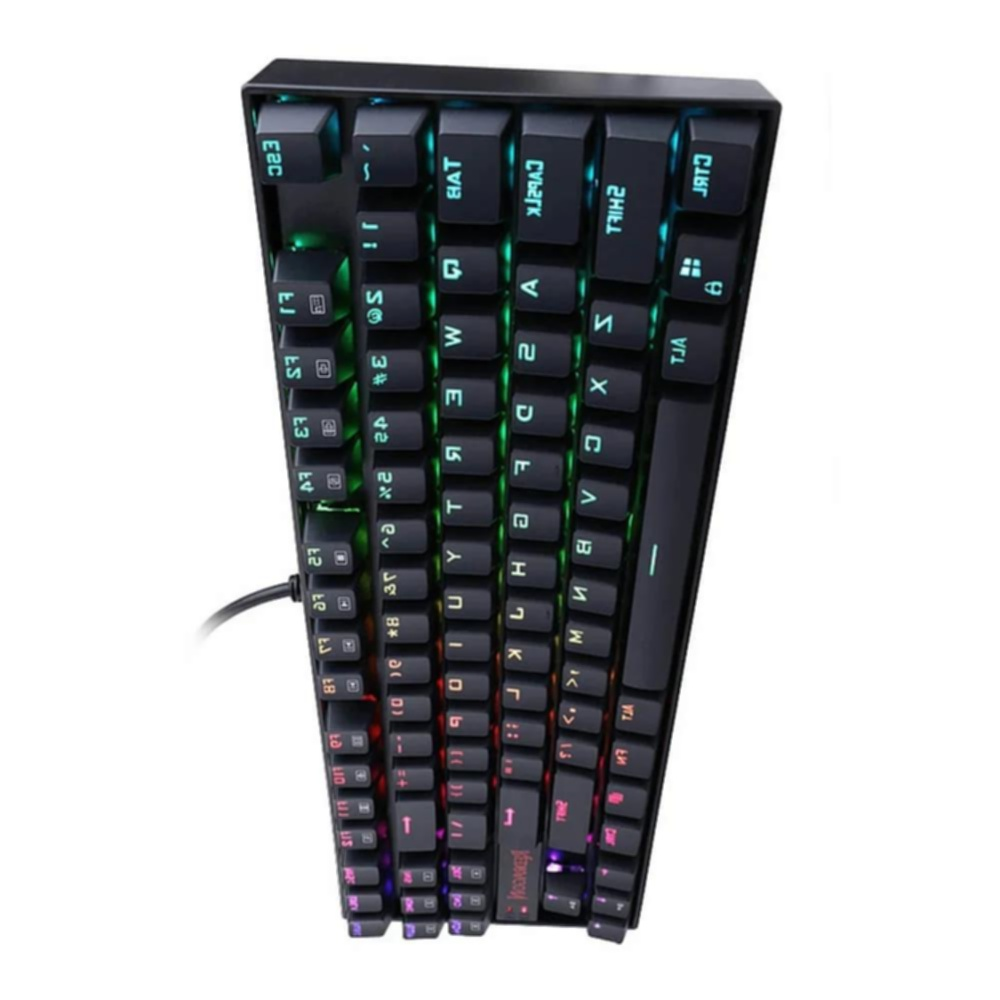-: (520, 278, 539, 298)
0: (391, 697, 405, 715)
0-1-2-3-4-5-6-7-8-9-A-B-C-D-E-F: (361, 141, 375, 183), (391, 736, 409, 754), (565, 669, 581, 689), (394, 769, 410, 789), (502, 758, 518, 776), (562, 706, 577, 725), (505, 722, 519, 739), (450, 821, 463, 839), (450, 750, 464, 766), (559, 742, 572, 759), (451, 783, 465, 798)
1: (361, 220, 380, 250)
2: (366, 288, 384, 321)
3: (371, 354, 389, 387)
4: (373, 415, 390, 444)
5: (377, 471, 393, 499)
6: (381, 522, 397, 546)
7: (383, 571, 398, 595)
8: (386, 617, 401, 638)
9: (389, 659, 403, 679)
A: (669, 336, 688, 366), (621, 704, 634, 721)
ALT: (576, 537, 594, 555)
B: (395, 803, 435, 851)
BACKSPACE: (584, 434, 602, 454)
C: (523, 157, 545, 220)
CAPSLK: (691, 151, 713, 200), (605, 828, 617, 846)
CTRL: (516, 403, 535, 423)
D: (451, 866, 463, 880)
DEL: (597, 897, 606, 903)
DOWN: (445, 388, 463, 408)
E: (451, 894, 462, 908)
END: (500, 787, 537, 847)
ENTER: (260, 136, 287, 180), (449, 678, 463, 692)
ESC: (514, 458, 532, 476)
F: (278, 291, 297, 315)
F1: (334, 768, 347, 786)
F10: (337, 801, 350, 818)
F11: (340, 831, 353, 848)
F12: (284, 355, 302, 380)
F2: (293, 416, 311, 438)
F3: (297, 471, 315, 493)
F4: (307, 547, 323, 566)
F5: (312, 593, 327, 611)
F6: (318, 637, 332, 654)
F7: (322, 678, 336, 694)
F8: (329, 734, 342, 749)
F9: (615, 749, 628, 766)
FN: (513, 511, 529, 531)
G: (511, 561, 527, 578)
H: (404, 898, 414, 913)
HOME: (446, 637, 466, 654)
I: (403, 871, 412, 884)
INS: (508, 606, 526, 622)
J: (507, 647, 525, 664)
K: (245, 85, 784, 928)
KEYBOARD: (504, 686, 520, 704)
L: (601, 868, 609, 876)
LEFT: (568, 629, 584, 645)
M: (609, 792, 623, 804)
MENU: (571, 585, 588, 603)
O: (449, 713, 465, 730)
P: (352, 922, 361, 936)
PAUSE: (451, 920, 462, 934)
PGDN: (405, 923, 415, 937)
PGUP: (344, 868, 355, 884)
PRTSC: (443, 258, 463, 280)
Q: (444, 444, 463, 464)
R: (594, 923, 600, 929)
RIGHT: (517, 342, 536, 363)
S: (349, 896, 359, 910)
SCRLK: (606, 182, 628, 237), (555, 800, 568, 823)
SHIFT: (622, 398, 712, 691)
SPACE: (445, 497, 463, 517)
T: (444, 155, 463, 204)
TAB: (446, 594, 464, 611)
U: (547, 894, 557, 900)
UP: (579, 487, 599, 509)
V: (443, 324, 462, 347)
W: (679, 257, 701, 278)
WIN: (590, 377, 608, 395)
X: (446, 547, 463, 565)
Y: (594, 312, 614, 334)
